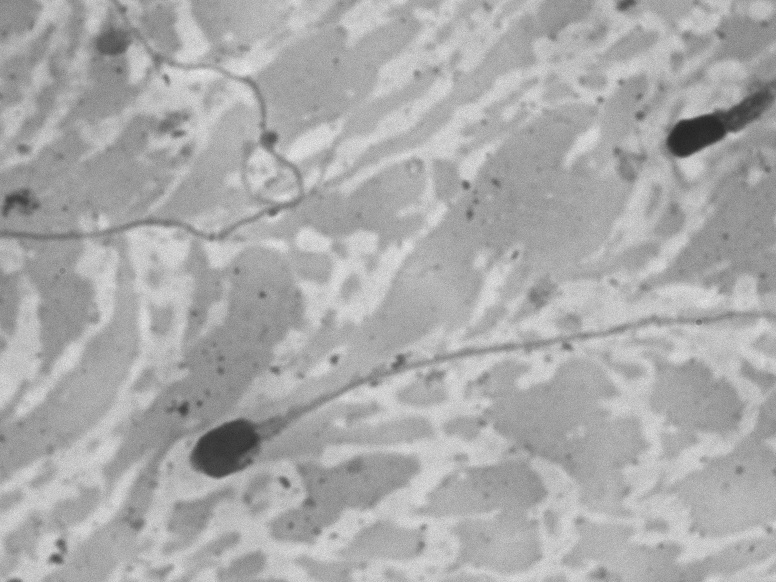Abnormal: (150, 303, 758, 501)
